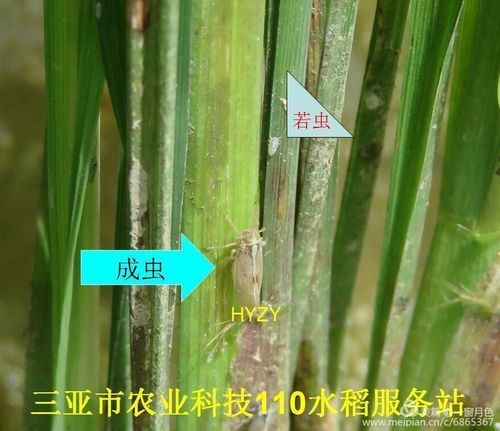Delphacidae: (204, 201, 268, 310), (266, 134, 282, 157)
